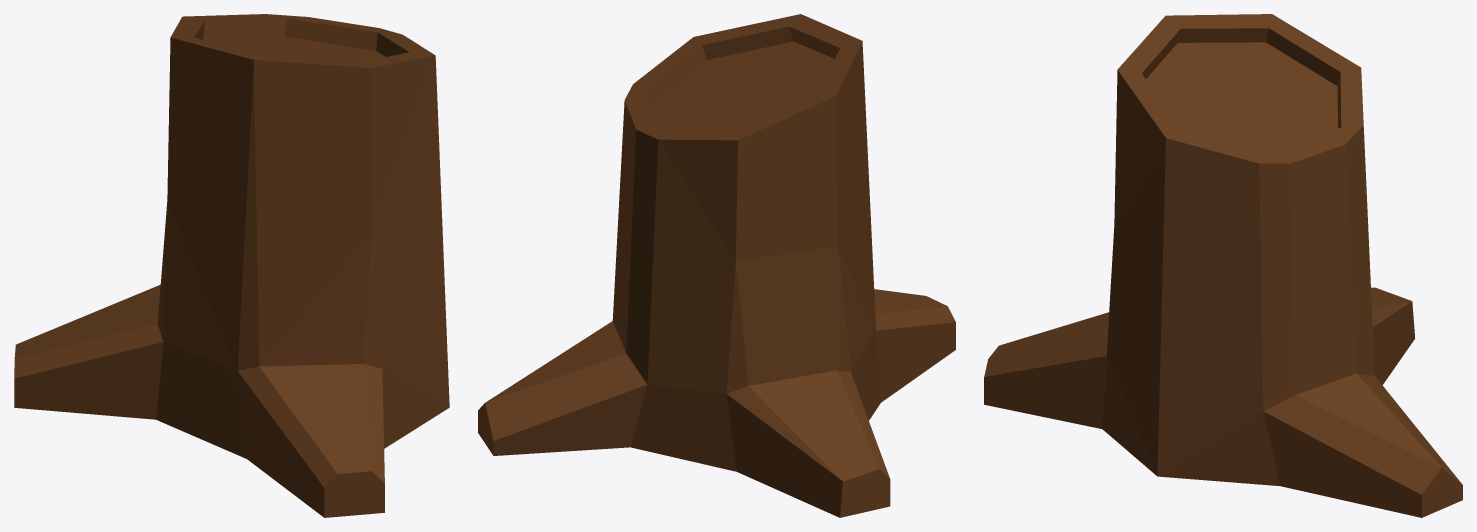
The model's file is 16 Trunk 2.FBX.
The picture shows the model from 3 angles, left to right: view 1: azimuth 30°, elevation 25°; view 2: azimuth 150°, elevation 25°; view 3: azimuth 270°, elevation 25°; orthographic projection. The views are drawn at different scales.
Visible parts, largest first — view 1: Trunk 5; view 2: Trunk 5; view 3: Trunk 5.
Boxes of the visible parts, bbox=[...] form: Trunk 5: bbox=[14, 14, 449, 517]; Trunk 5: bbox=[478, 14, 955, 517]; Trunk 5: bbox=[984, 14, 1462, 517].
Size of the model in its own units: 288 by 260 by 303.
